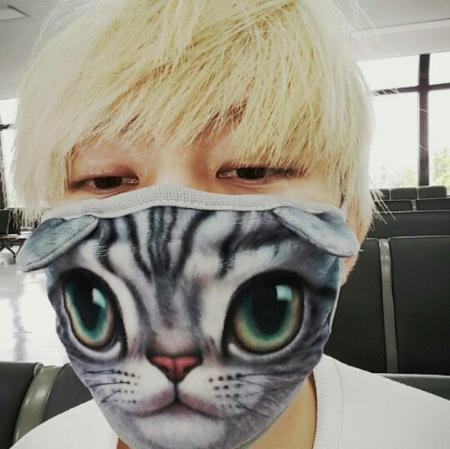OK: (26, 112, 363, 431)
